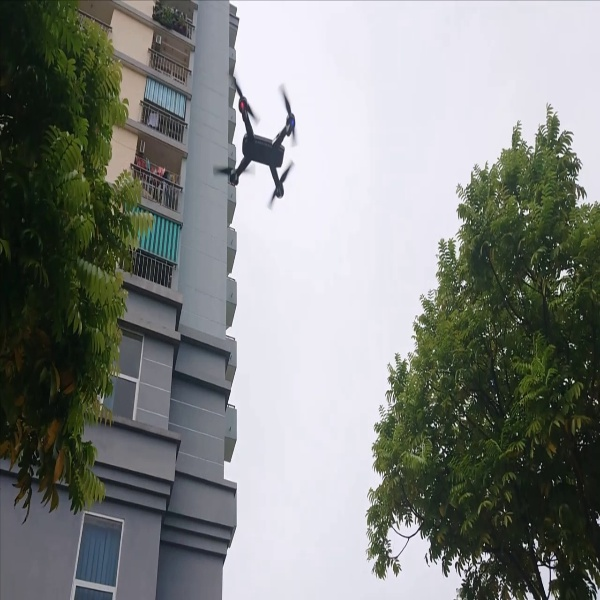drone: (218, 64, 314, 209)
